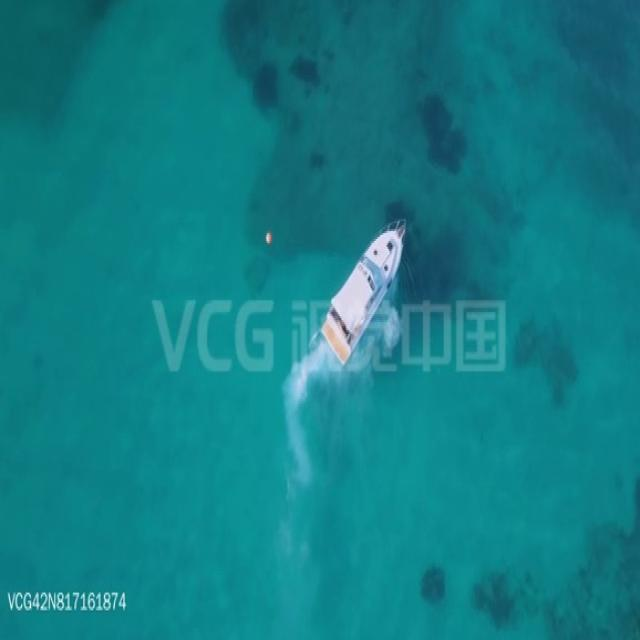houseboat: (316, 217, 408, 368)
